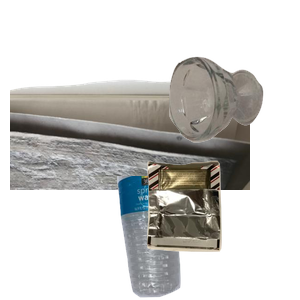glass: (166, 54, 300, 189)
paper: (10, 77, 250, 257)
plastic: (115, 176, 288, 300)
trash: (144, 158, 300, 300)
